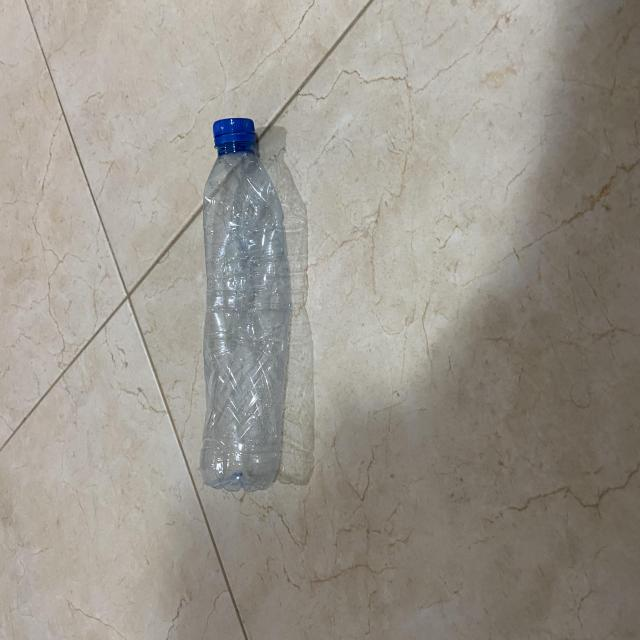bottle: (193, 107, 295, 501)
